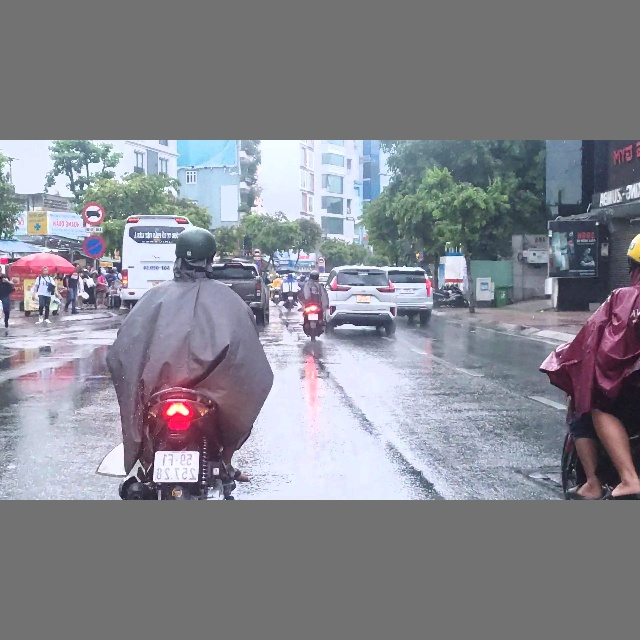P.106a*Xe tai: (81, 202, 105, 226), (252, 248, 262, 257)
P.131a: (82, 233, 106, 258)
